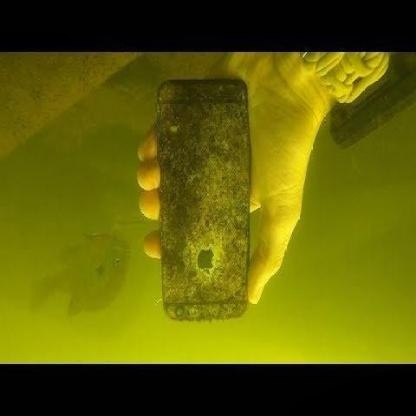cellphone: (155, 79, 250, 321)
